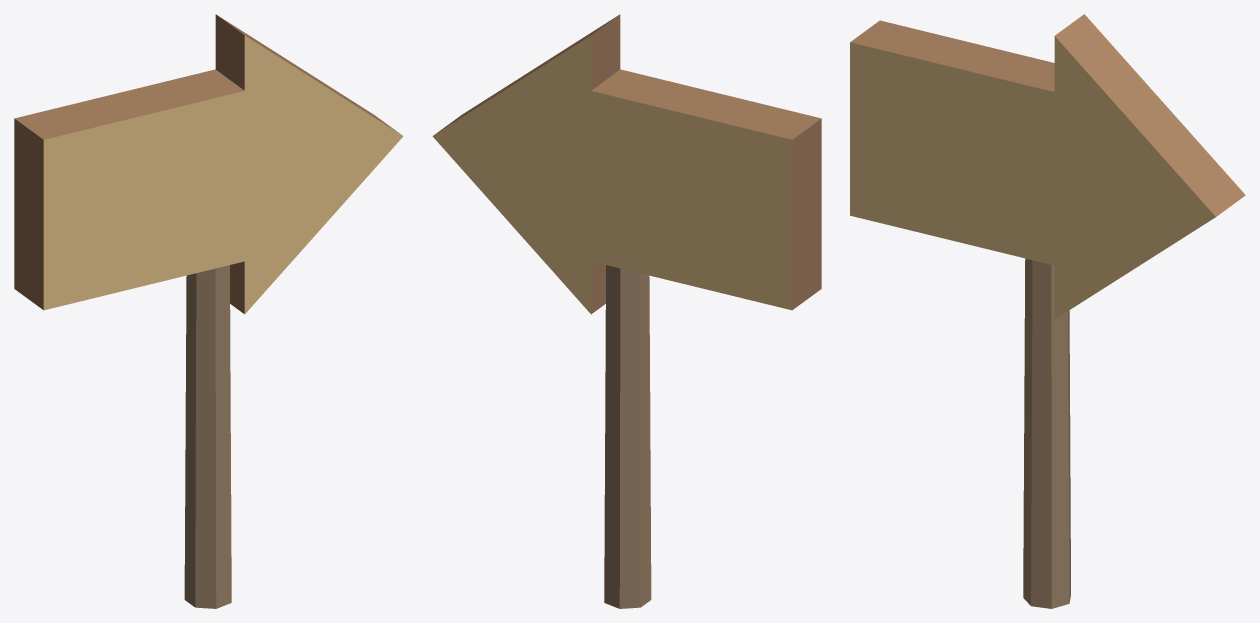
File: arrow-sign.glb
The picture shows the model from 3 angles, left to right: view 1: azimuth 30°, elevation 25°; view 2: azimuth 150°, elevation 25°; view 3: azimuth 330°, elevation 25°; orthographic projection.
Visible parts, largest first — view 1: arrow-sign; view 2: arrow-sign; view 3: arrow-sign.
Boxes of the visible parts, box(x1,y1,x2,y2) form: arrow-sign: box(14, 14, 403, 608); arrow-sign: box(432, 14, 821, 608); arrow-sign: box(850, 14, 1245, 608).
Bounding box in the file's own units: 1.7 × 2.57 × 0.24.
